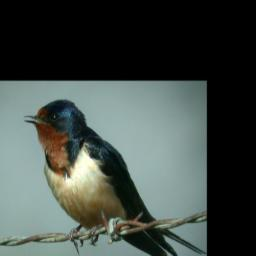Swallow: (23, 99, 207, 256)
